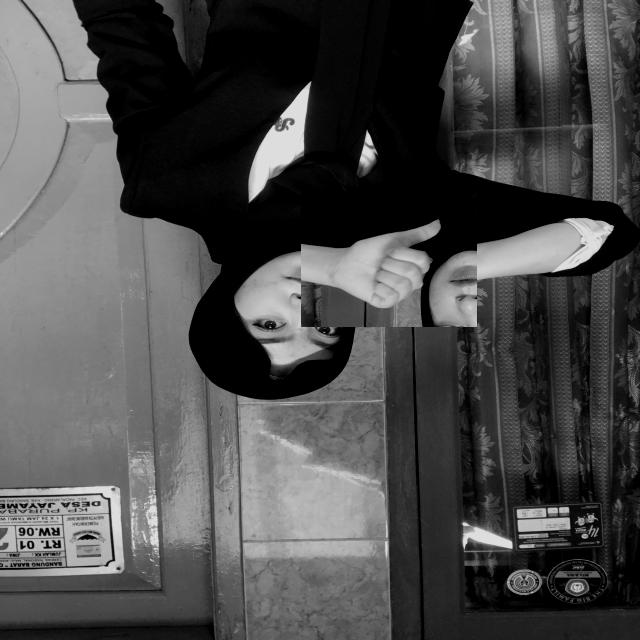sedih: (301, 192, 477, 327)
